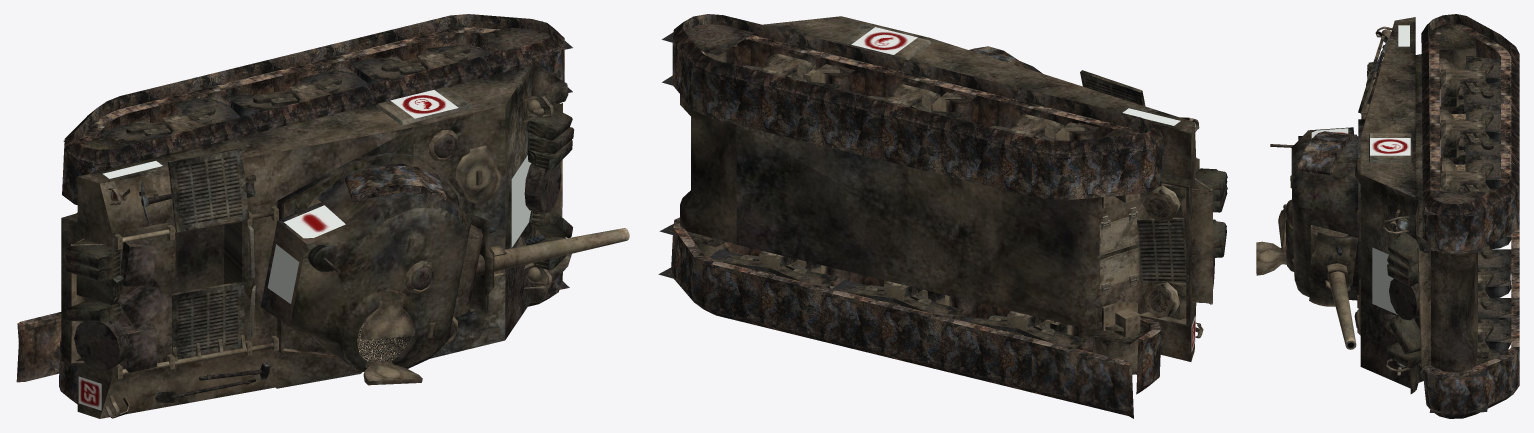
The model's file is vehicle_american_sherman_desert_d.glb.
3 renders of one model, left to right at view 1: azimuth 30°, elevation 25°; view 2: azimuth 150°, elevation 25°; view 3: azimuth 270°, elevation 25°, orthographic. The views are drawn at different scales.
Size of the model in its own units: 243 by 116 by 127.
5 materials, 5 textured.
